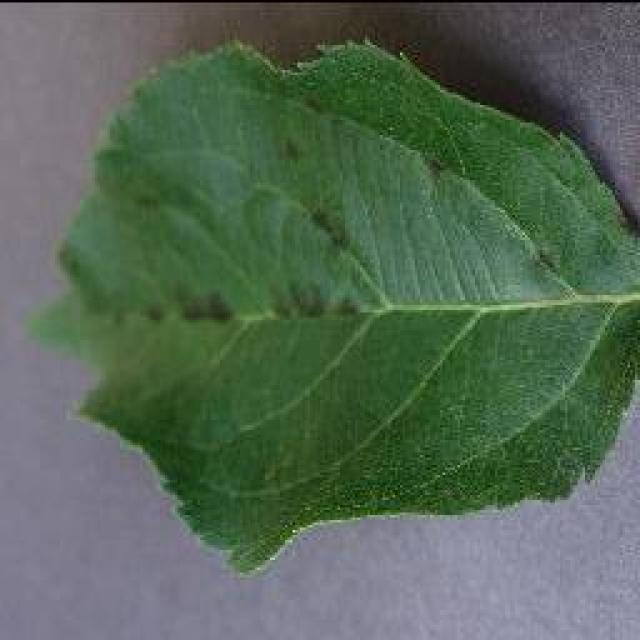apple scab disease: (35, 33, 637, 575)
